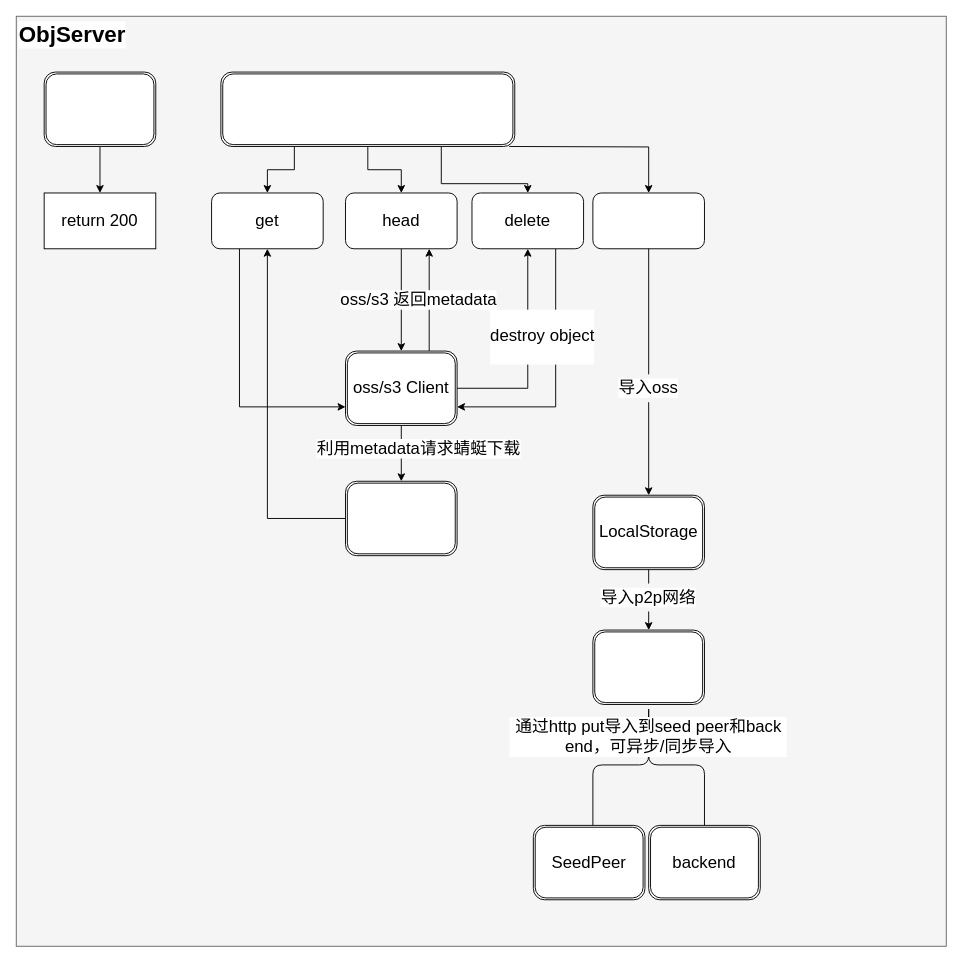
The diagram is 963 pixels wide and 963 high, and some of its shapes have lost their labels. The centre of each missing label's shape, as x and y in pixels:
"/buckets/ :id/objects/*object_key" goes at (x=367, y=108).
"/health" goes at (x=99, y=108).
"AnnouceTask" goes at (x=648, y=666).
"put" goes at (x=648, y=220).
"taskManager" goes at (x=401, y=518).
